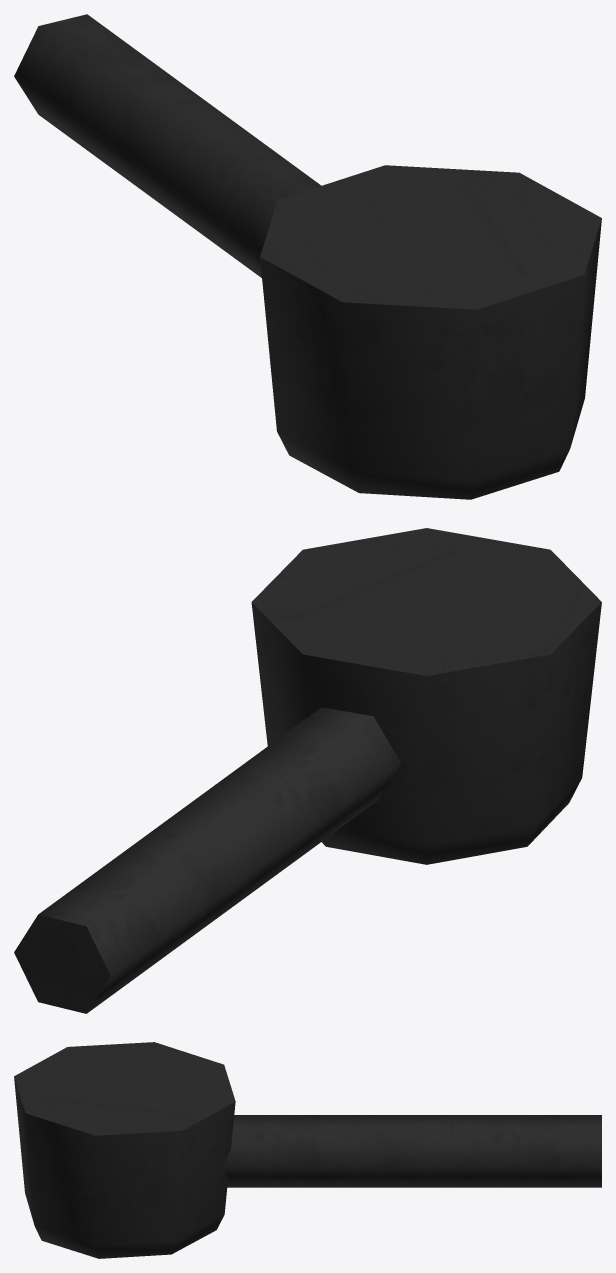
The model's file is Light_Mount_2.FBX.
3 renders of one model, top to bottom at view 1: azimuth 30°, elevation 25°; view 2: azimuth 150°, elevation 25°; view 3: azimuth 270°, elevation 25°, orthographic. The views are drawn at different scales.
Visible parts, largest first — view 1: Light_Mount_2; view 2: Light_Mount_2; view 3: Light_Mount_2.
Boxes of the visible parts, x1,y1,x2,y2 form: Light_Mount_2: [14, 14, 601, 499]; Light_Mount_2: [14, 528, 601, 1013]; Light_Mount_2: [14, 1042, 601, 1258].
Size of the model in its own units: 0.0909 by 0.062 by 0.2413.
